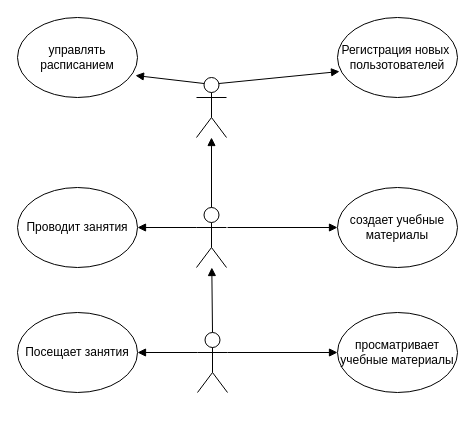
Some shapes in this 475 by 431 pixel diagram are drawn without their labels. Each missing label, with the centre of its shape:
"Админ" goes at point (211, 107).
"Преподаватель" goes at point (211, 237).
"Студент" goes at point (212, 362).
